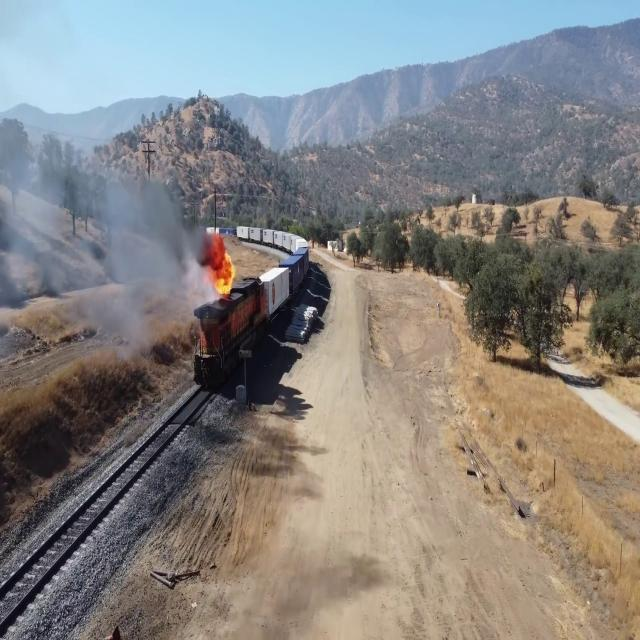Fire: (206, 233, 235, 297)
Smoke: (116, 204, 181, 284)
